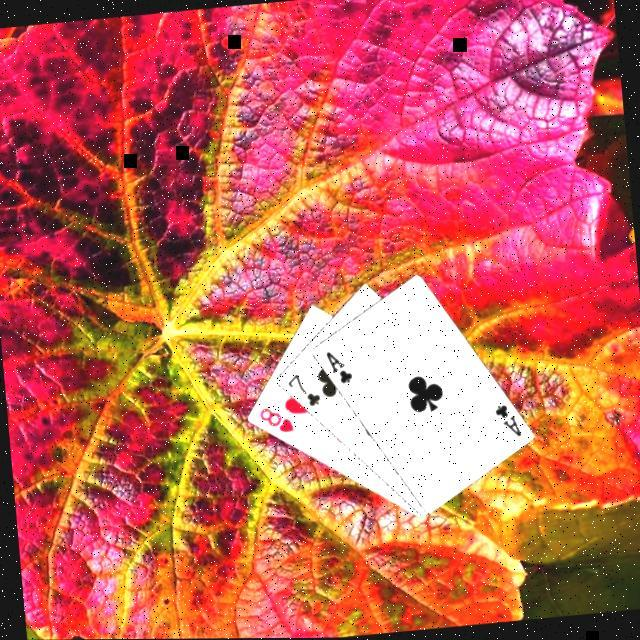7C: (282, 370, 323, 413)
8H: (254, 403, 295, 438)
AC: (322, 346, 355, 388), (490, 400, 523, 442)
